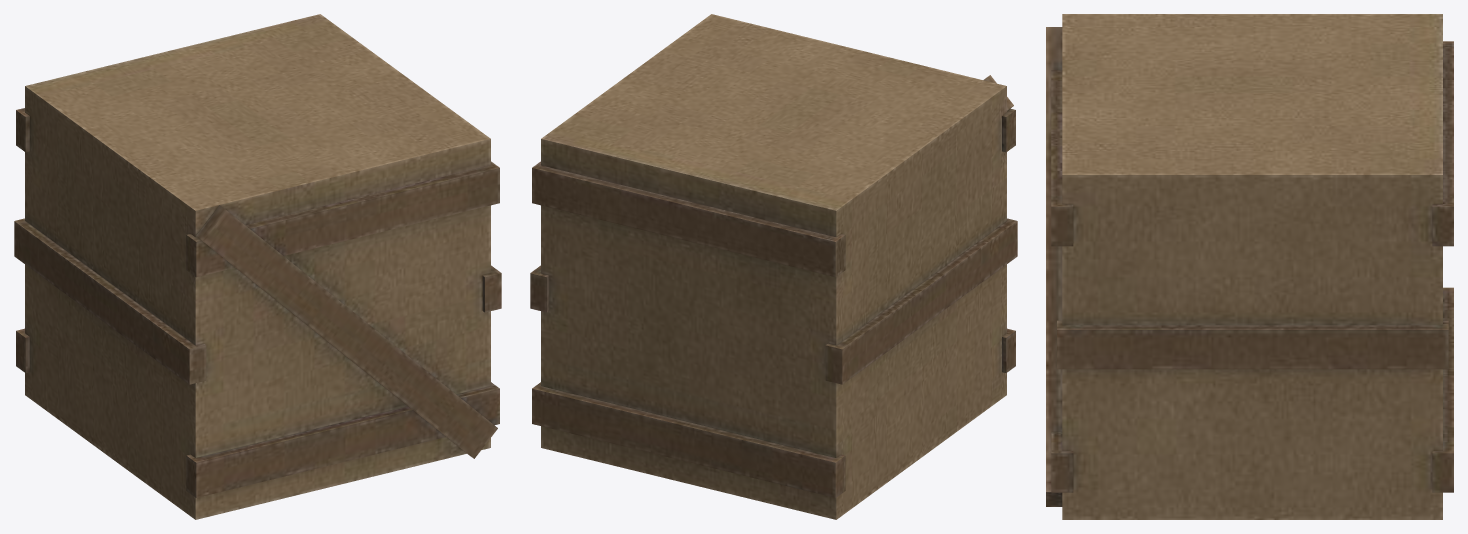
The model's file is caixote.glb.
3 renders of one model, left to right at view 1: azimuth 30°, elevation 25°; view 2: azimuth 150°, elevation 25°; view 3: azimuth 270°, elevation 25°, orthographic. The views are drawn at different scales.
Visible parts, largest first — view 1: caixote; view 2: caixote; view 3: caixote.
Boxes of the visible parts, box(x1,y1,x2,y2) form: caixote: box(14, 14, 501, 519); caixote: box(530, 14, 1017, 519); caixote: box(1046, 14, 1453, 519).
Size of the model in its own units: 0.74 by 0.7 by 0.75.
1 material, 1 textured.
